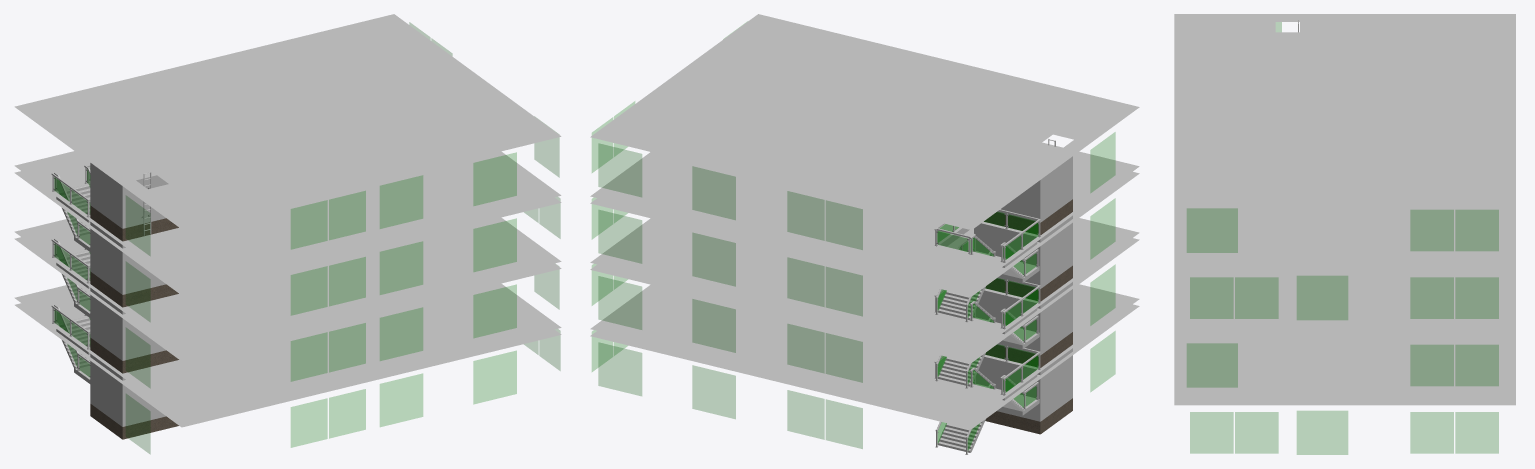
Rendered from SM_Building23_Interior03.fbx.
3 renders of one model, left to right at view 1: azimuth 30°, elevation 25°; view 2: azimuth 150°, elevation 25°; view 3: azimuth 270°, elevation 25°, orthographic.
Parts seen in each view (by area): view 1: SM_Building_23_Interior03; view 2: SM_Building_23_Interior03; view 3: SM_Building_23_Interior03.
Boxes of the visible parts, box(x1,y1,x2,y2) form: SM_Building_23_Interior03: box(14, 14, 561, 453); SM_Building_23_Interior03: box(590, 14, 1139, 454); SM_Building_23_Interior03: box(1174, 14, 1515, 454).
Bounding box in the file's own units: 2504 × 1611 × 1922.
